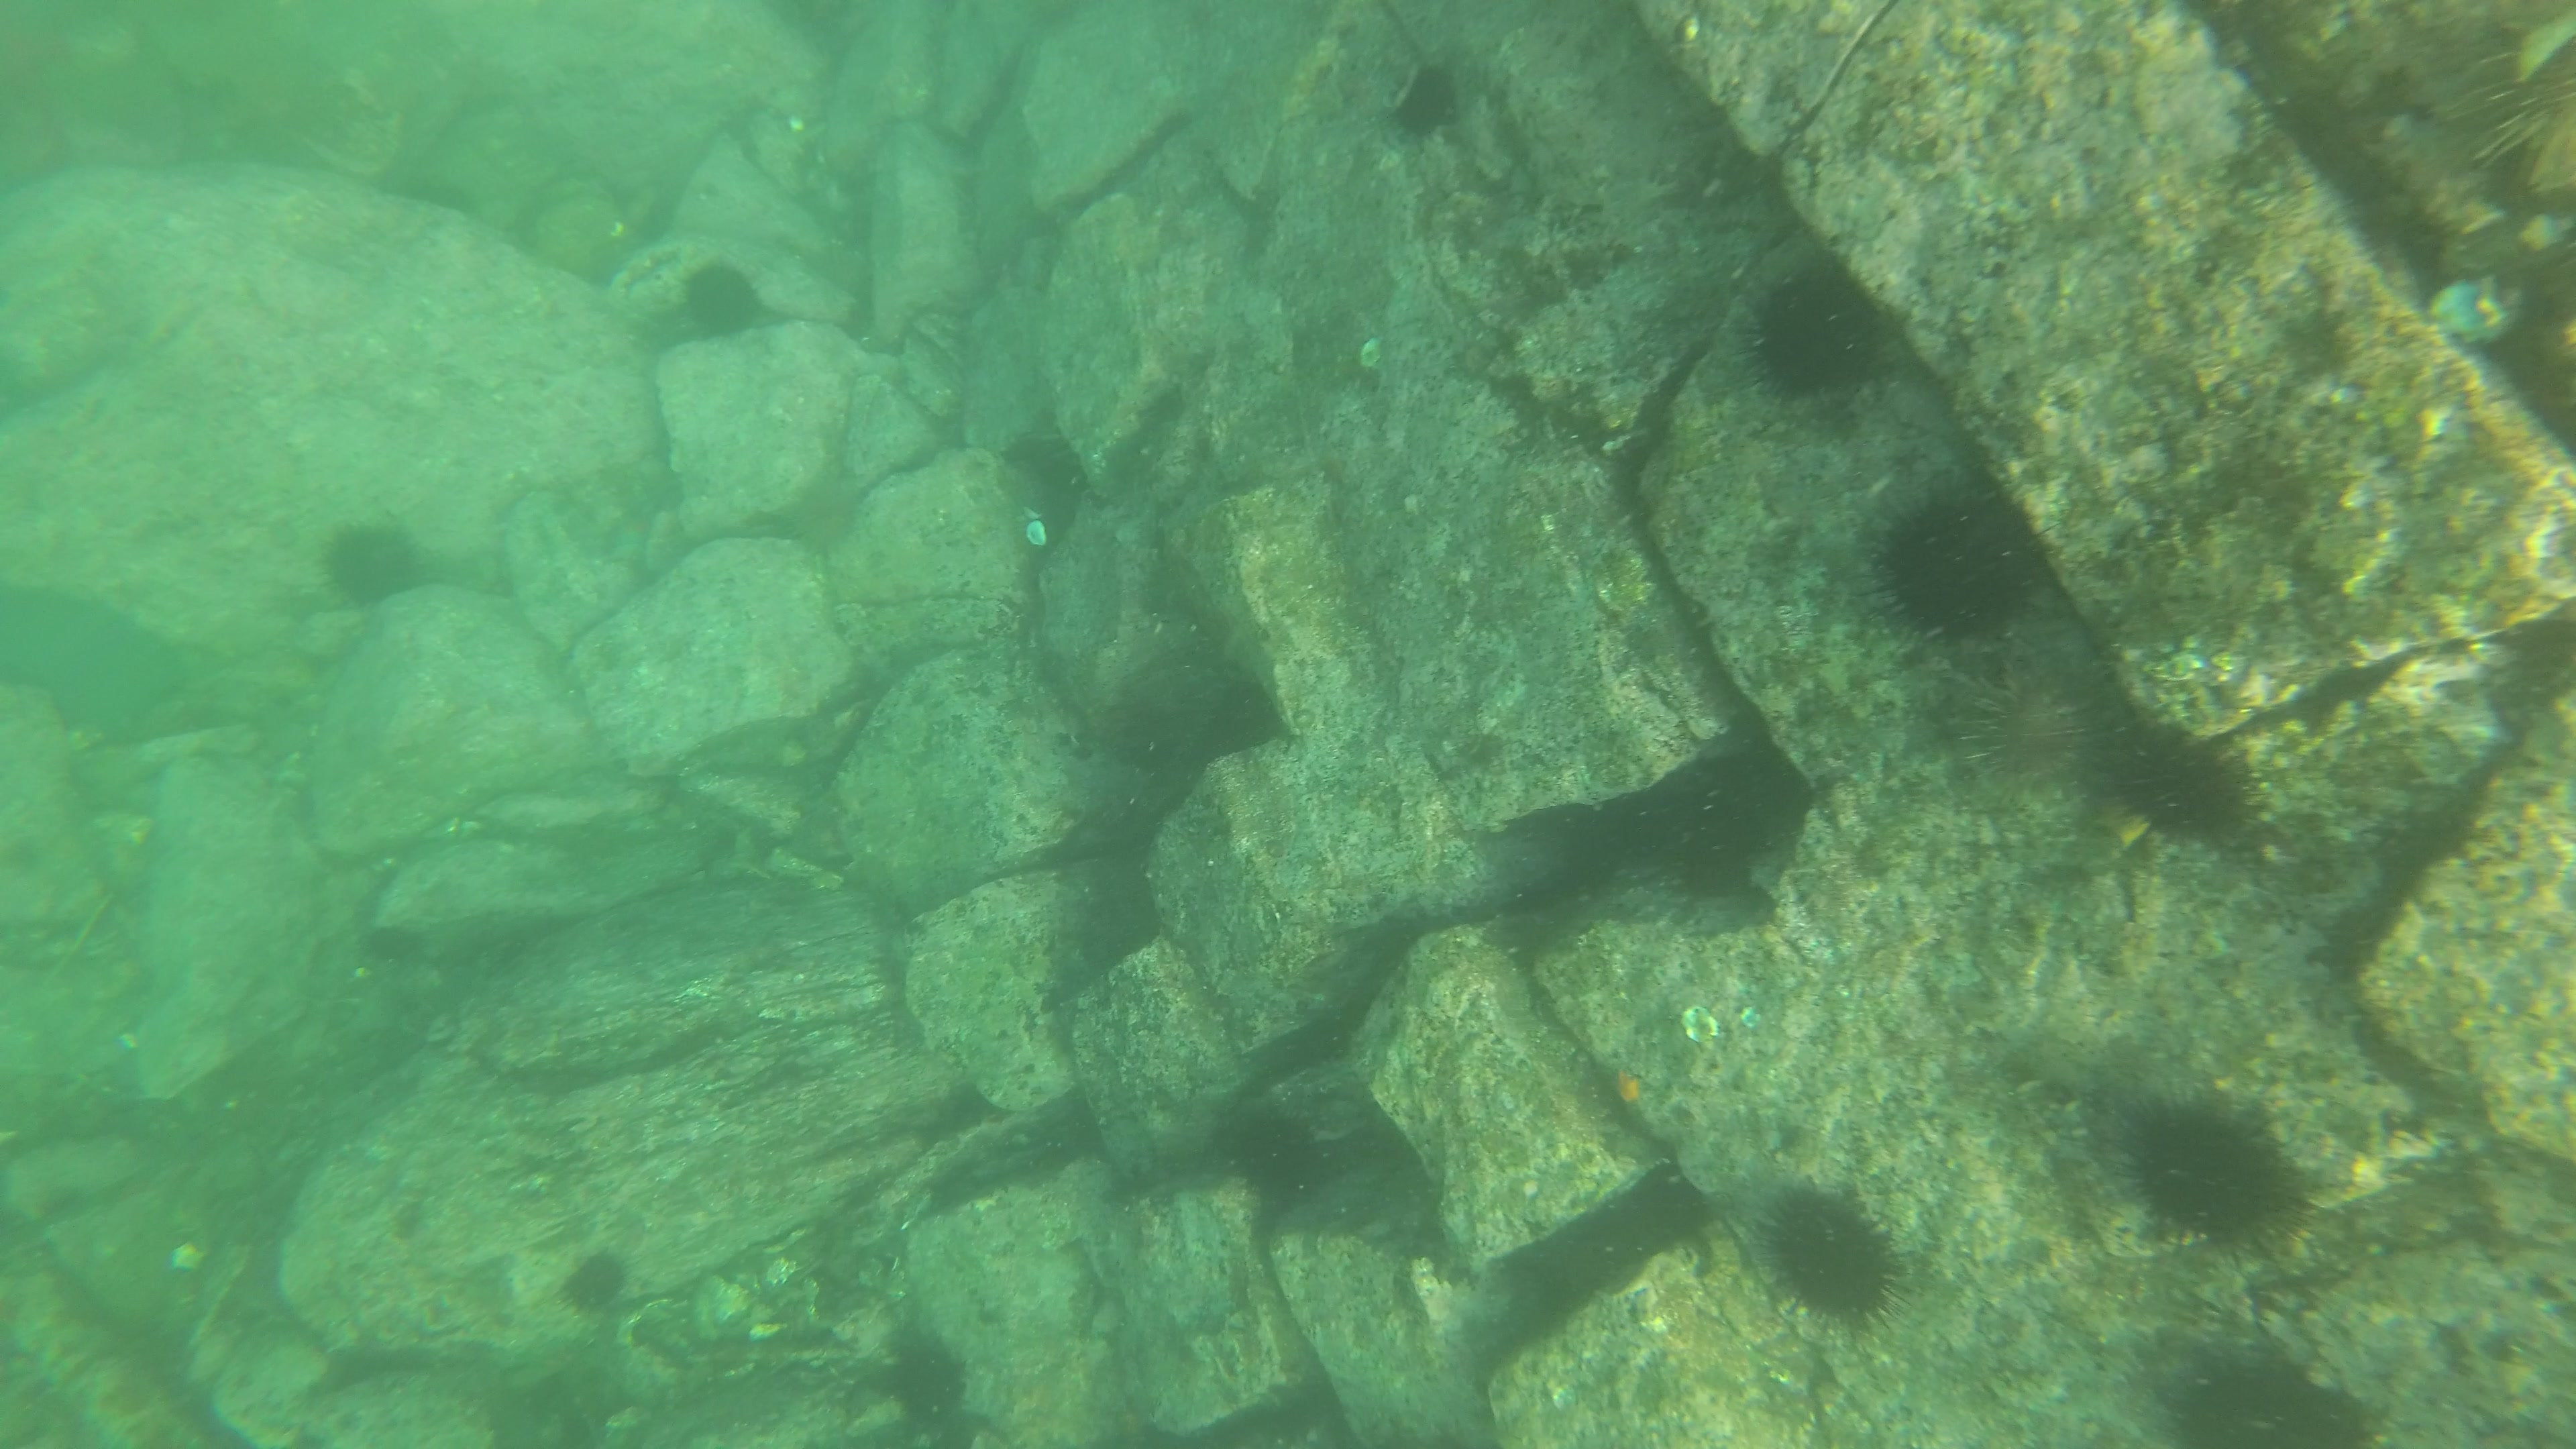echinus: (2107, 1076, 2323, 1269), (1955, 642, 2173, 816), (1859, 471, 2059, 649), (1737, 1164, 1920, 1348), (2440, 0, 2576, 205), (2102, 717, 2263, 853), (2169, 1357, 2380, 1449), (1746, 267, 1895, 395), (1668, 786, 1782, 909), (310, 513, 433, 614), (878, 1332, 982, 1435), (1235, 1109, 1338, 1205), (669, 262, 777, 345), (552, 1246, 640, 1323), (1391, 62, 1468, 142)
